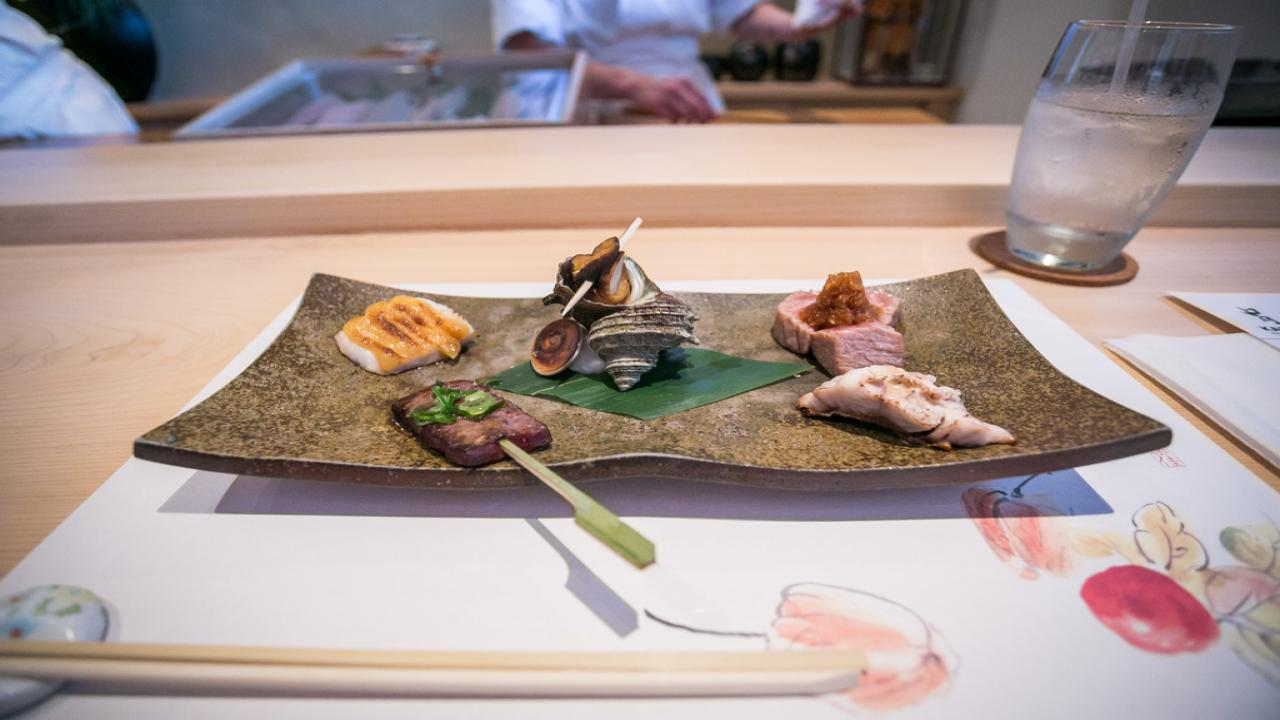chopstick: (0, 647, 870, 696)
